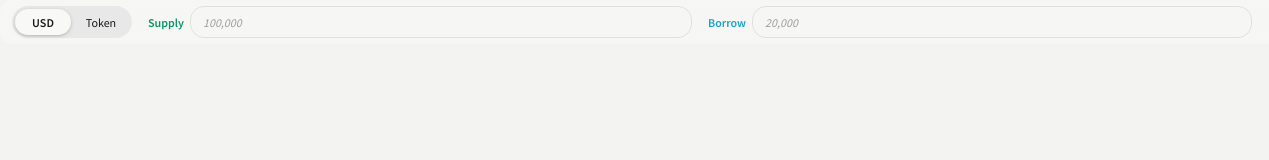
Test: ScenarioControls › useDebouncedInput migration (AAV-745) › should clear borrow and immediately commit empty string on clear button
Type "5000" into the field named "Supply amount".
click(441, 22); type("5000")  # box [190, 6, 692, 38]
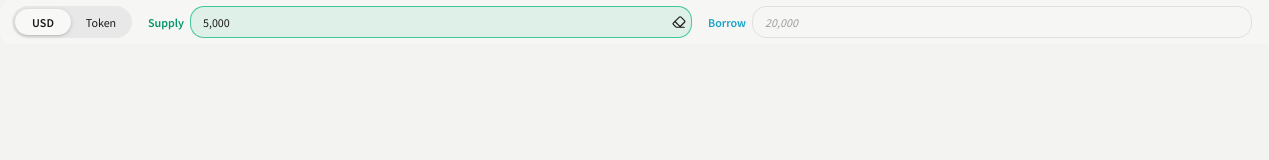
Type "2000" into the field named "Borrow amount".
click(1002, 22); type("2000")  # box [752, 6, 1252, 38]
Wait 300 ms
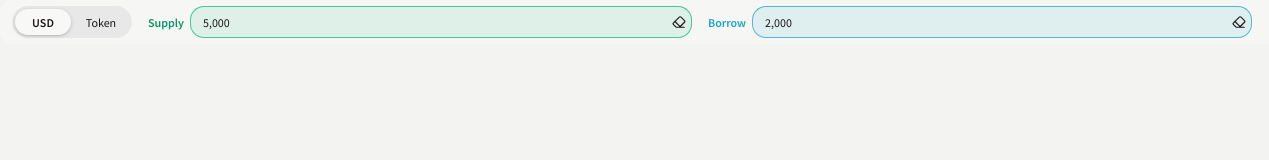
Click the button named "Clear borrow amount".
click(1239, 22)  # box [1230, 13, 1248, 31]
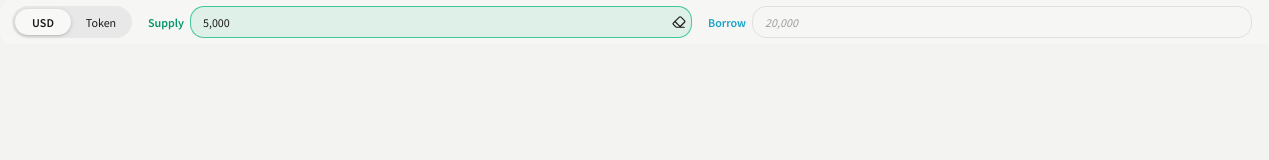
Expected: the field named "Borrow amount" is empty, [752, 6, 1252, 38]
